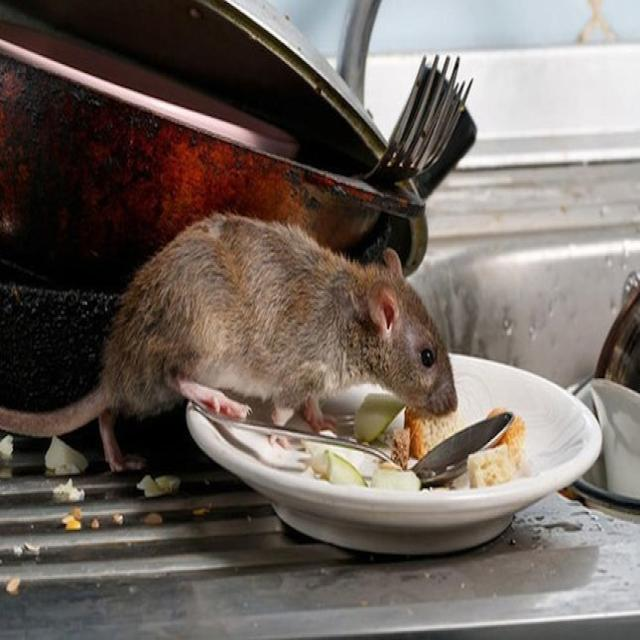rat: (95, 205, 472, 474)
